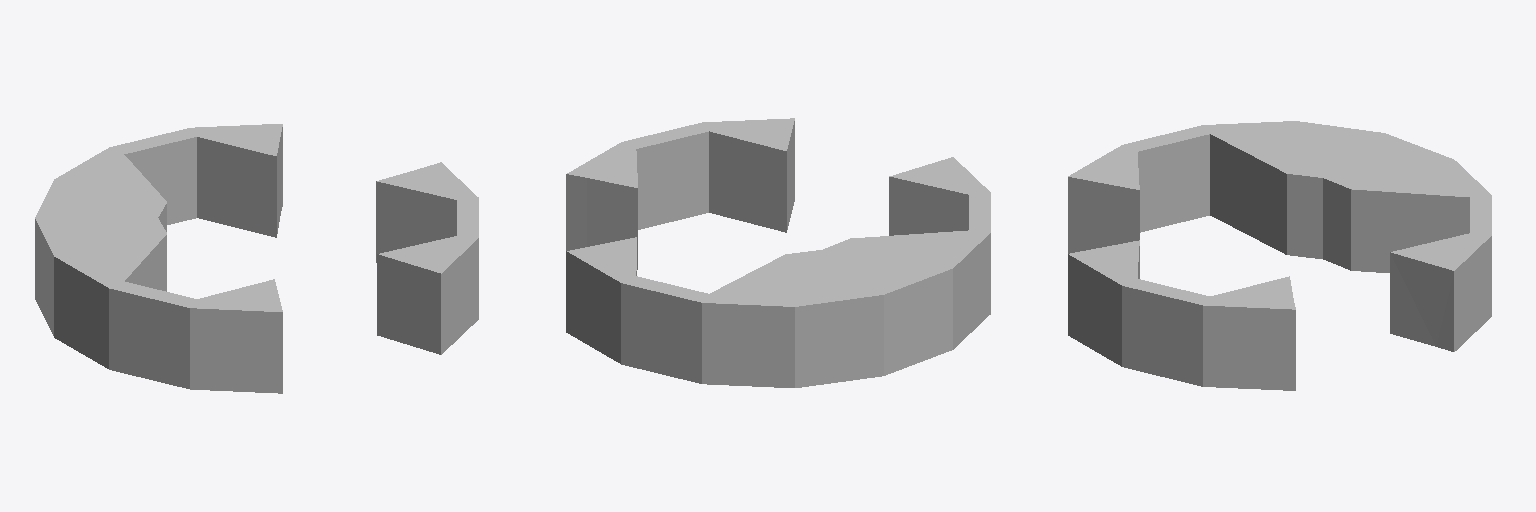
The model's file is bumper_cage_v4_two_openings.obj.
The picture shows the model from 3 angles: view 1: azimuth 30°, elevation 25°; view 2: azimuth 150°, elevation 25°; view 3: azimuth 270°, elevation 25°; orthographic projection.
Visible parts, largest first — view 1: Cylinder.005_Cylinder.009; view 2: Cylinder.005_Cylinder.009; view 3: Cylinder.005_Cylinder.009.
Boxes of the visible parts, x1,y1,x2,y2 form: Cylinder.005_Cylinder.009: [35, 124, 478, 393]; Cylinder.005_Cylinder.009: [566, 118, 990, 387]; Cylinder.005_Cylinder.009: [1068, 121, 1491, 390].
Bounding box in the file's own units: 1.99 × 0.4 × 1.89.